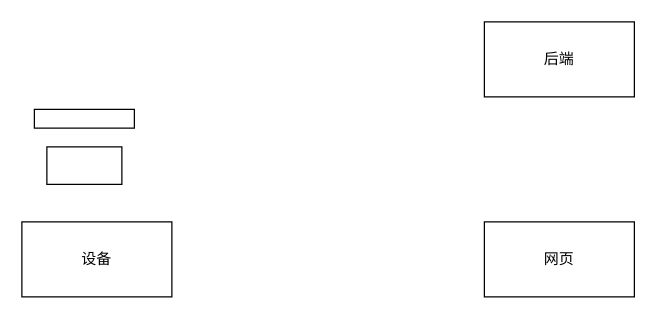
The diagram is 656 pixels wide and 319 high, and some of its shapes have lost their labels. Here are the shapes that lost their labels. From the top down, the centre of each, then its label:
the point at 83,118: 音频文件片段
the point at 84,165: 音频文件
